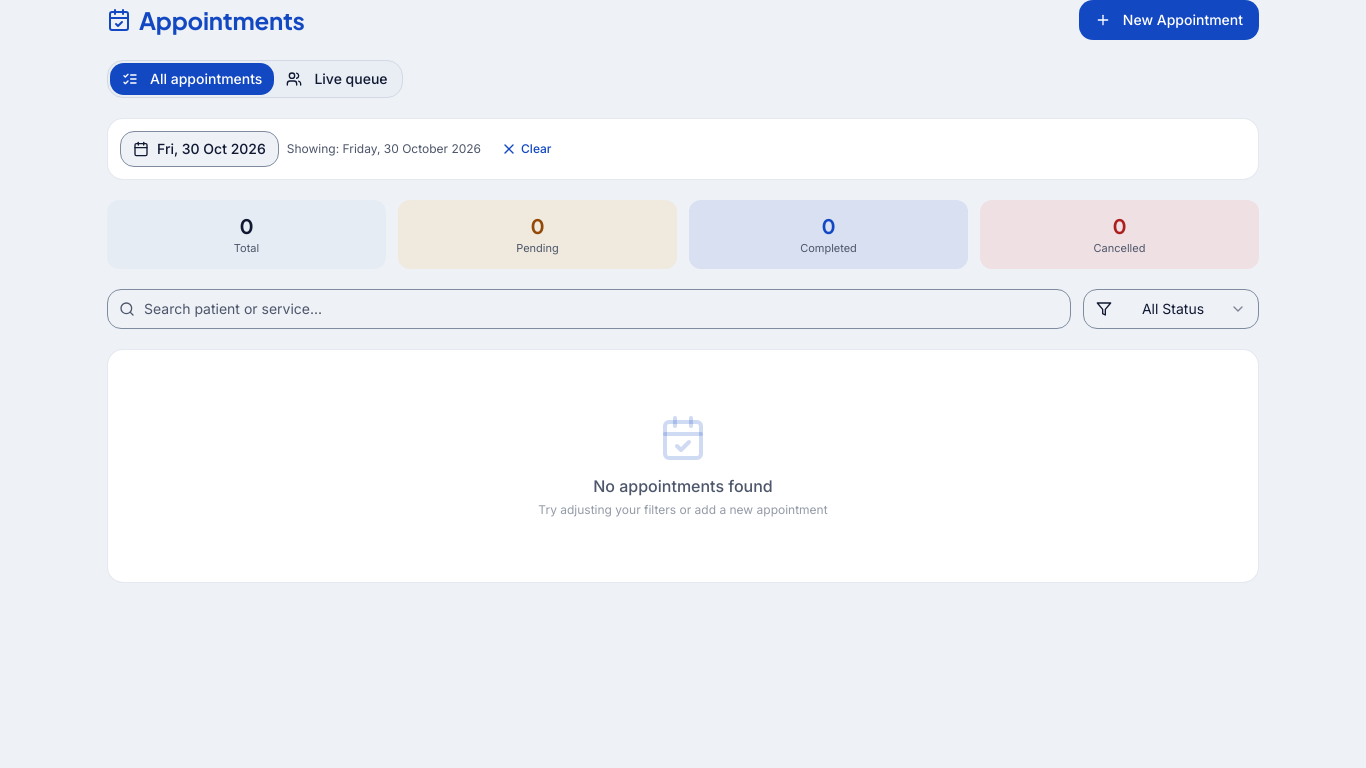
Test: AppointmentsPage - amount autofill › defaults the new appointment time slot to Walk-in
Click the button "New Appointment" at (1169, 20), box [1079,0,1259,40]
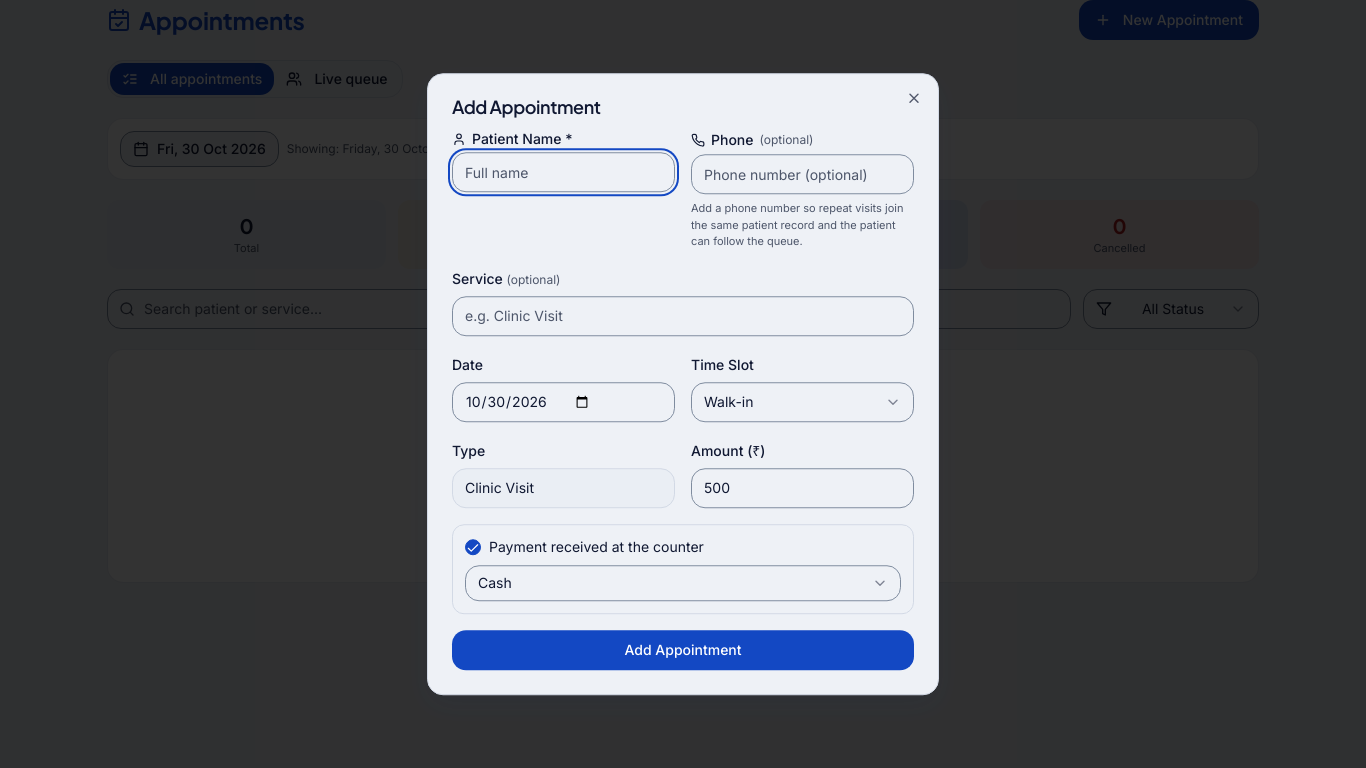
Expected: the field with placeholder "0" is shown, [691,468,914,508]
Expected: the dropdown labelled "Walk-in" is shown, [691,382,914,422]
